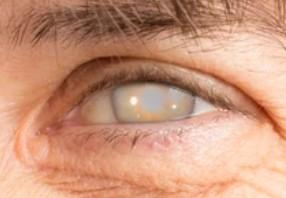eye: (109, 81, 196, 123)
